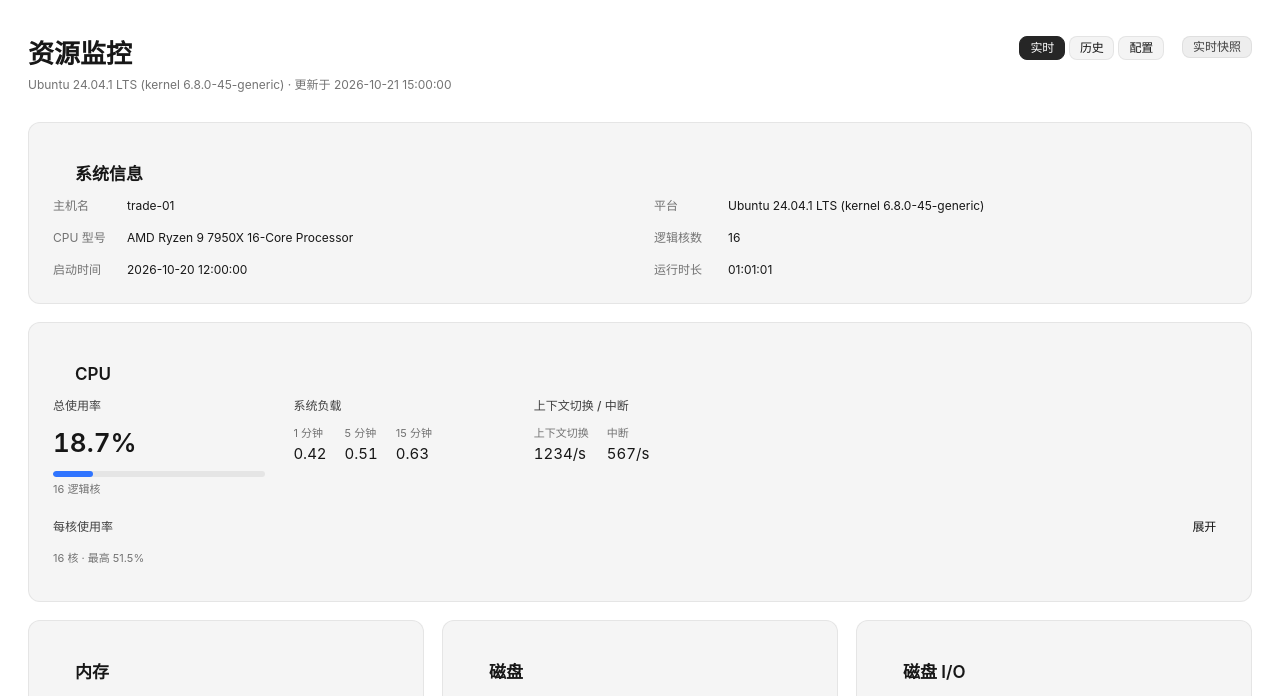
Test: MonitorView 历史视图（#79 三态） › HTTP 失败：显示可重试的错误态
Click the tab with test id "monitor-tab-history" at (1092, 48), box [1069,36,1114,60]
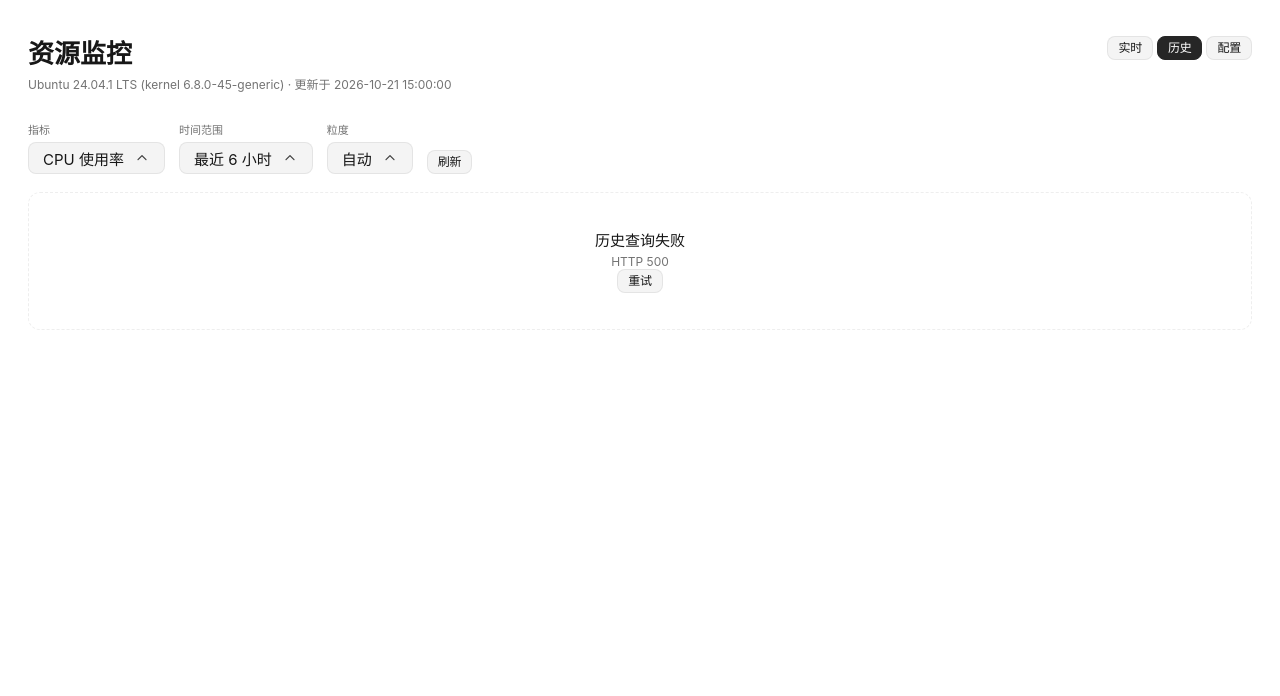
Expected: the element with test id "sysmon-history-error" is shown, [28,192,1252,330]
Expected: the element with test id "sysmon-history-error" shows "HTTP 500", [611,254,669,269]
